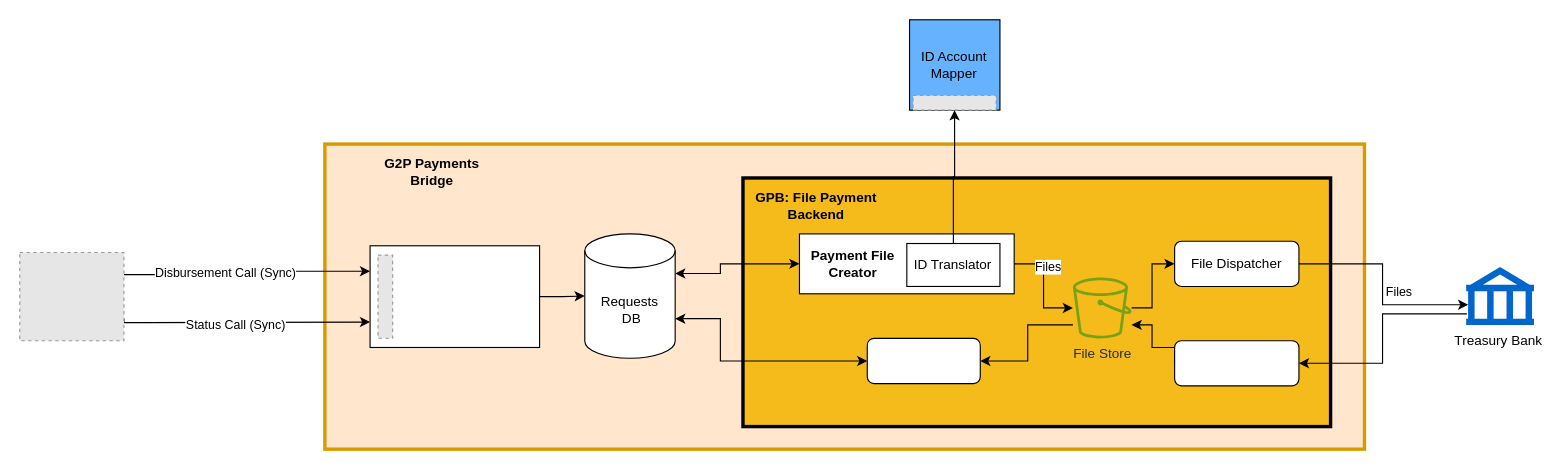
The diagram is 1565 pixels wide and 470 high, and some of its shapes have lost their labels. Grey dashed boxes stand in for pictures. The box of each missing label's shape, as (x1, y1, x2, y2) in pixels:
Disbursement API Controller: (369, 245, 540, 347)
File Fetcher: (1174, 340, 1299, 386)
Payment File Reader: (866, 337, 980, 384)
